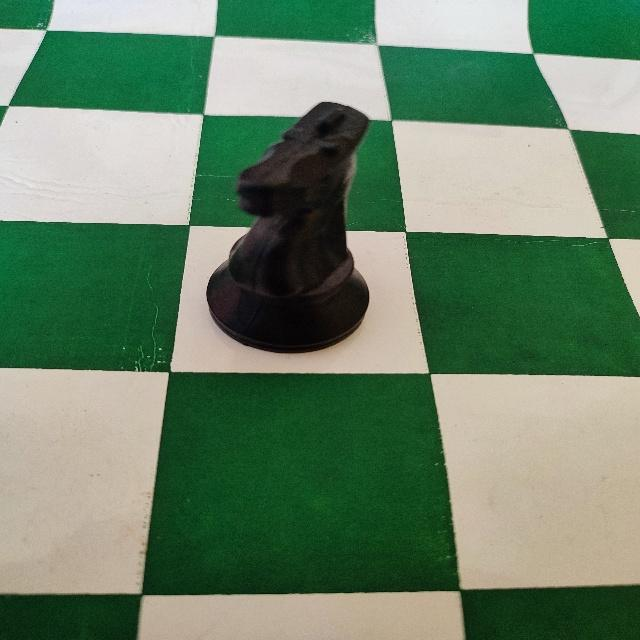Knight: (204, 99, 376, 355)
